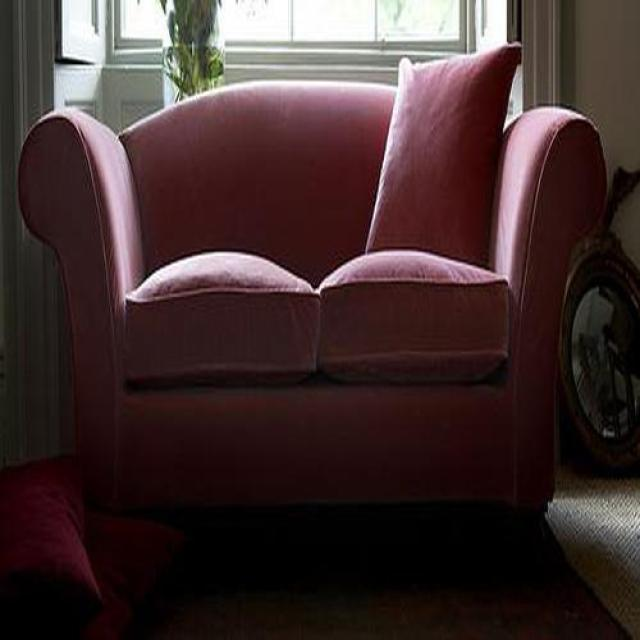sofa: (15, 44, 605, 520)
